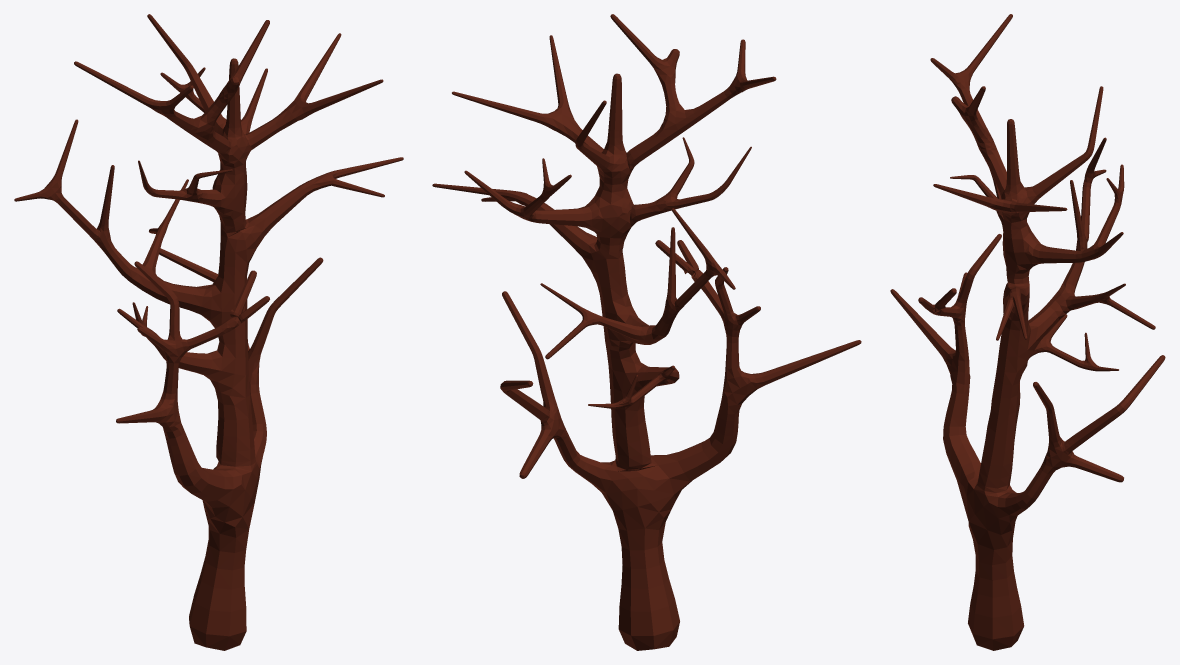
The model's file is derevo.obj.
3 views of the same model, side by side, from view 1: azimuth 30°, elevation 25°; view 2: azimuth 150°, elevation 25°; view 3: azimuth 270°, elevation 25° (orthographic). The views are drawn at different scales.
Visible parts, largest first — view 1: Cube; view 2: Cube; view 3: Cube.
Part boxes in pixels (<box>): Cube: <box>14,14,403,650</box>; Cube: <box>432,14,861,650</box>; Cube: <box>890,14,1165,650</box>.
Size of the model in its own units: 1.57 by 2.6 by 1.12.
